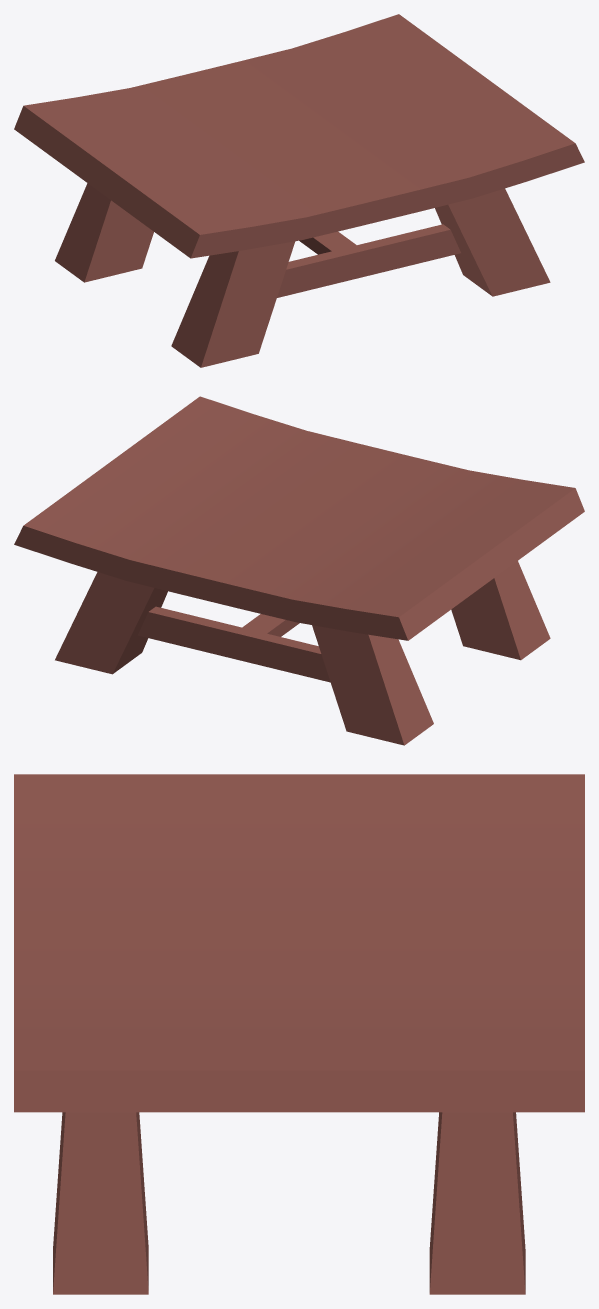
The model's file is Table.fbx.
3 views of the same model, one above another, from view 1: azimuth 30°, elevation 25°; view 2: azimuth 150°, elevation 25°; view 3: azimuth 270°, elevation 25° (orthographic). The views are drawn at different scales.
Visible parts, largest first — view 1: Table; view 2: Table; view 3: Table.
Boxes of the visible parts, x1,y1,x2,y2 form: Table: (14,14,584,367); Table: (14,396,584,745); Table: (14,774,584,1294).
Size of the model in its own units: 2.78 by 0.9761 by 2.16.
